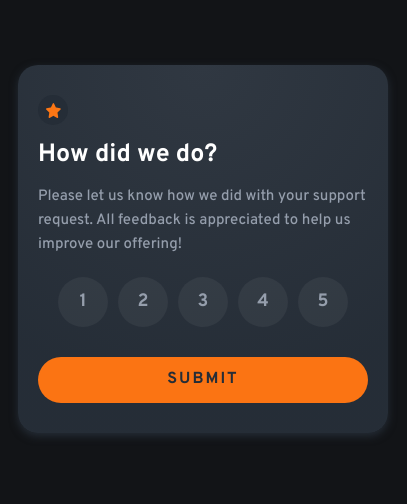
Scenario: renders RatingComponent and interacts with it
Check: the heading "How did we do?" is shown, box [38, 139, 217, 171]
// Simulate rating selection
Click the button "5".
click(323, 302)  # box [298, 277, 348, 327]
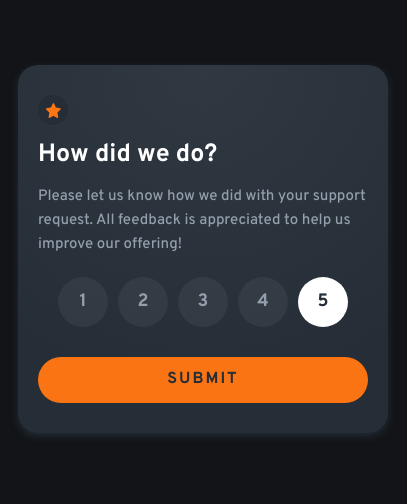
Check: the button "5" has class "active", box [298, 277, 348, 327]
// Simulate form submission
Click the button "SUBMIT".
click(203, 380)  # box [38, 357, 368, 403]
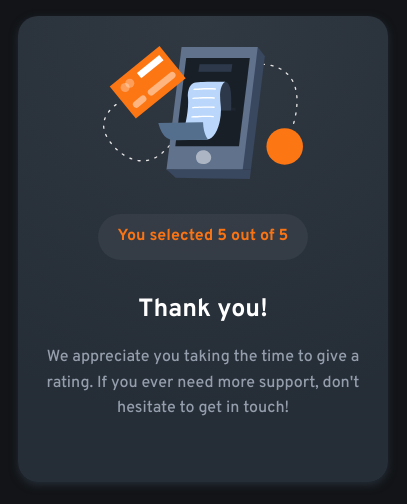
Check: the heading "Thank you!" is shown, box [138, 290, 268, 330]
